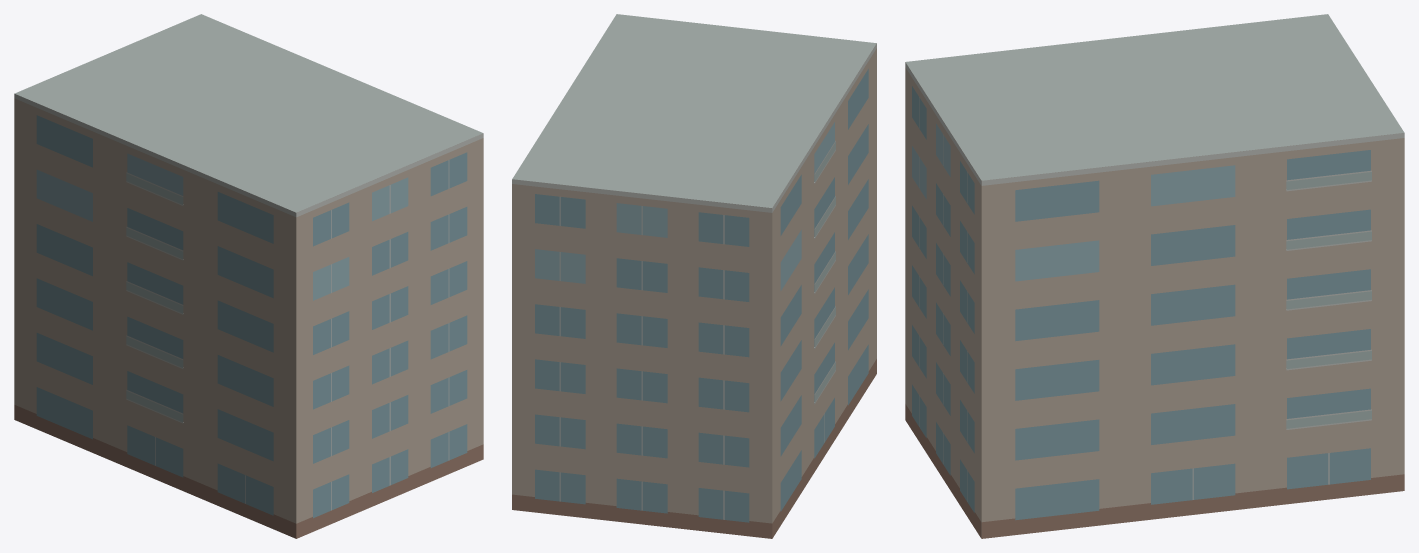
File: survey-upis-32725458.glb
3 views of the same model, side by side, from view 1: azimuth 30°, elevation 25°; view 2: azimuth 150°, elevation 25°; view 3: azimuth 270°, elevation 25° (orthographic). The views are drawn at different scales.
Visible parts, largest first — view 1: survey-upis-32725458.tmp; view 2: survey-upis-32725458.tmp; view 3: survey-upis-32725458.tmp.
Part boxes in pixels (x1,y1,x2,y2): survey-upis-32725458.tmp: [14, 14, 483, 538]; survey-upis-32725458.tmp: [512, 14, 876, 538]; survey-upis-32725458.tmp: [905, 14, 1404, 538].
Size of the model in its own units: 16.99 by 17 by 21.49.
